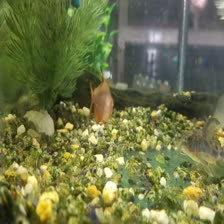Kiros: (170, 115, 223, 171)
Transparente: (83, 74, 122, 128)
